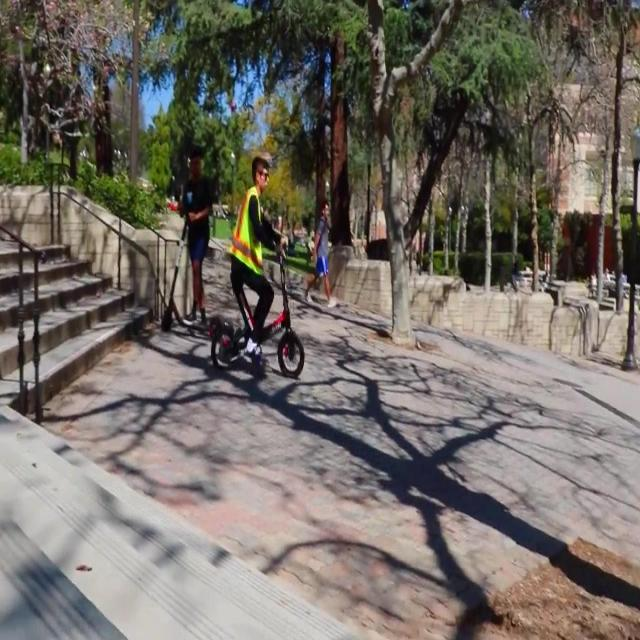Reflective-Jacket: (226, 186, 270, 278)
